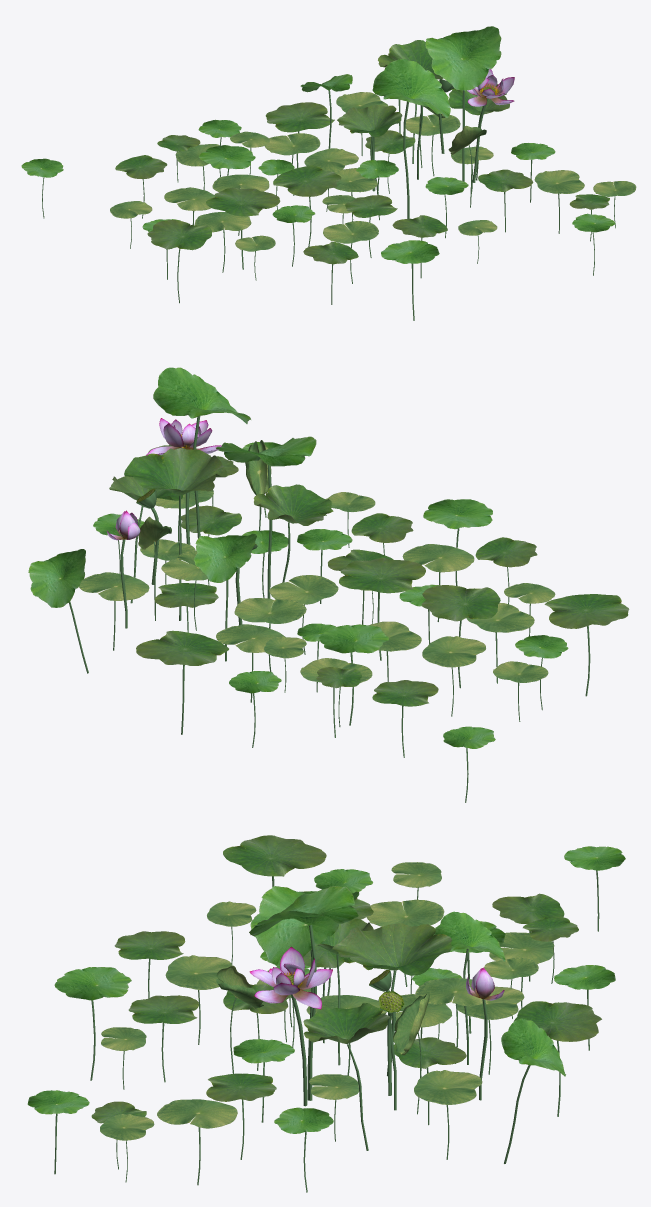
The model's file is Lotus.glb.
3 views of the same model, one above another, from view 1: azimuth 30°, elevation 25°; view 2: azimuth 150°, elevation 25°; view 3: azimuth 270°, elevation 25° (orthographic). The views are drawn at different scales.
Parts seen in each view (by area): view 1: Lotus_01; view 2: Lotus_01; view 3: Lotus_01.
Boxes of the visible parts, x1,y1,x2,y2 form: Lotus_01: [21, 26, 636, 320]; Lotus_01: [28, 367, 629, 802]; Lotus_01: [27, 835, 625, 1192].
Size of the model in its own units: 3.38 by 1.5 by 2.92.
7 materials, 5 textured.
